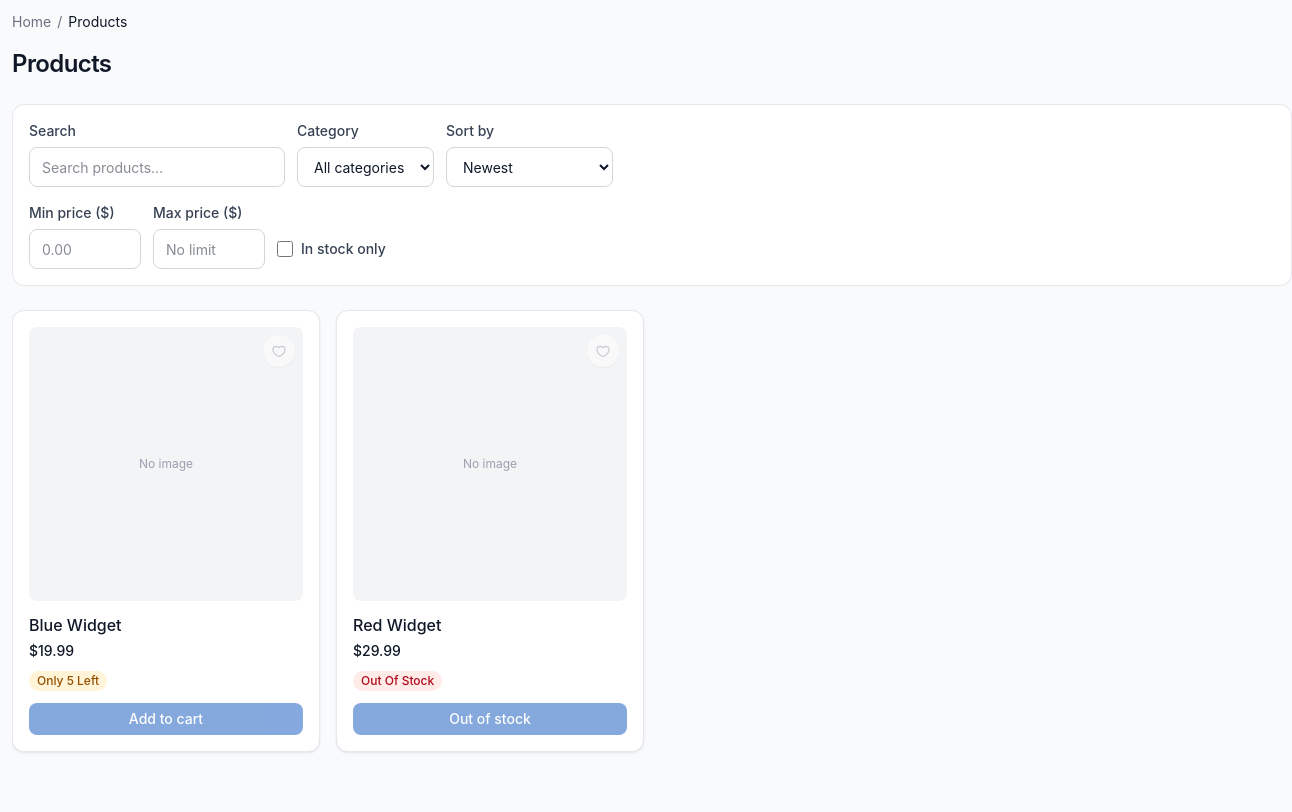
Test case: ProductList › shows a breadcrumb with the active category name when filtered by category
Expected: the link "Blue Widget" is shown, [29,615,122,635]
Select "Widgets" in the dropdown labelled "Category": {"x": 366, "y": 167} [297,147,434,187]
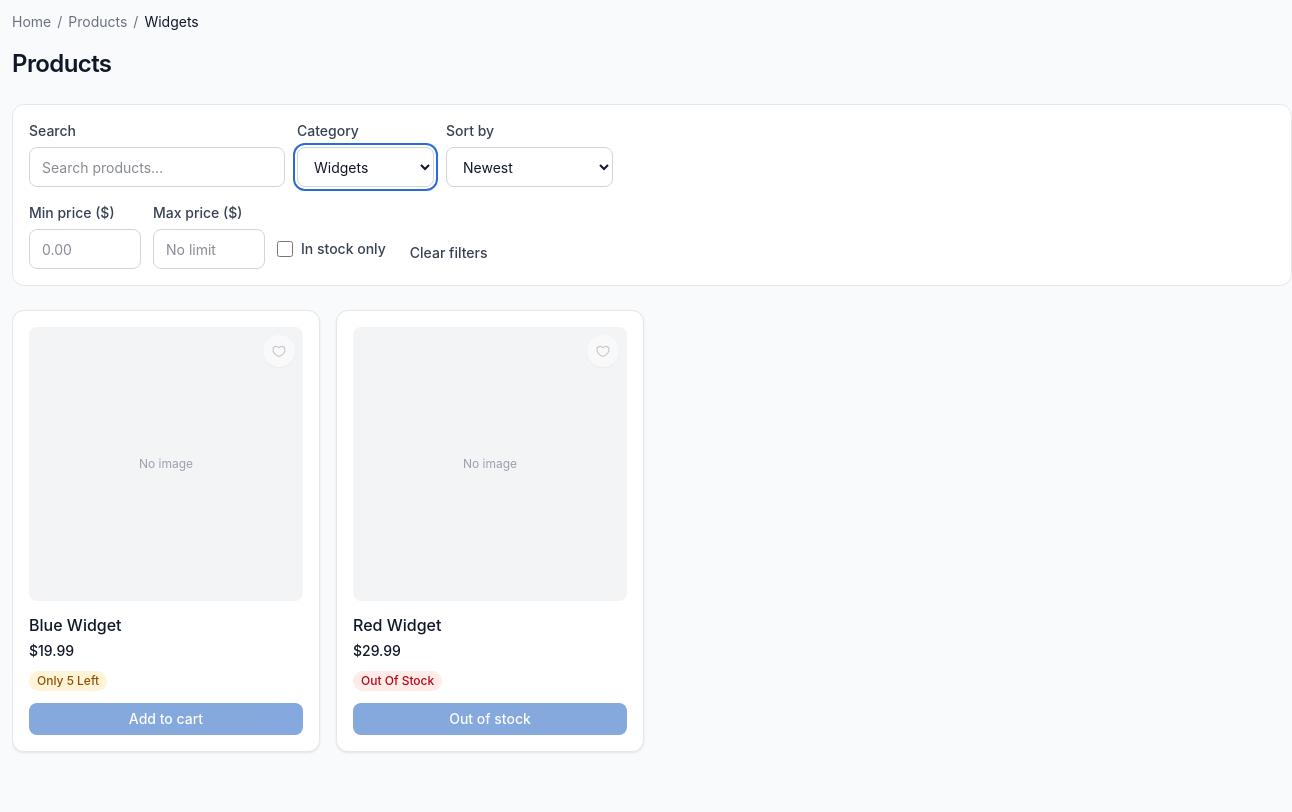
Now the navigation bar named "breadcrumb" reads "Home / Products /Widgets", box [12,13,199,30]
